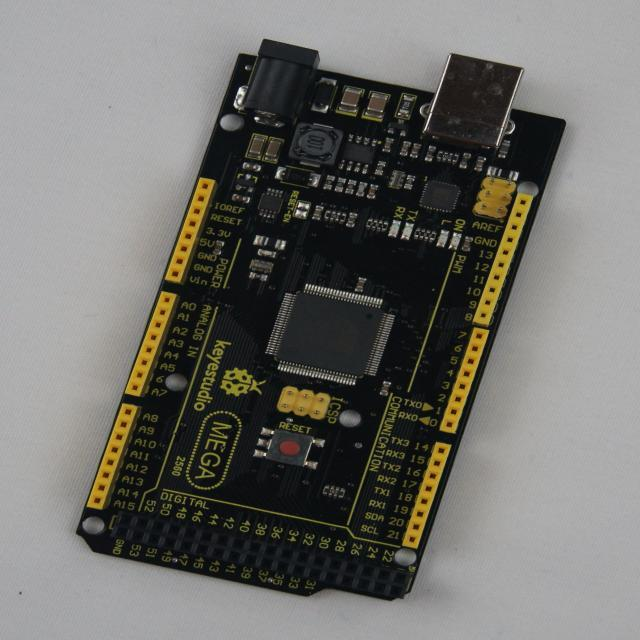Arduino Mega 2560 -Yellow-: (77, 41, 565, 600)
